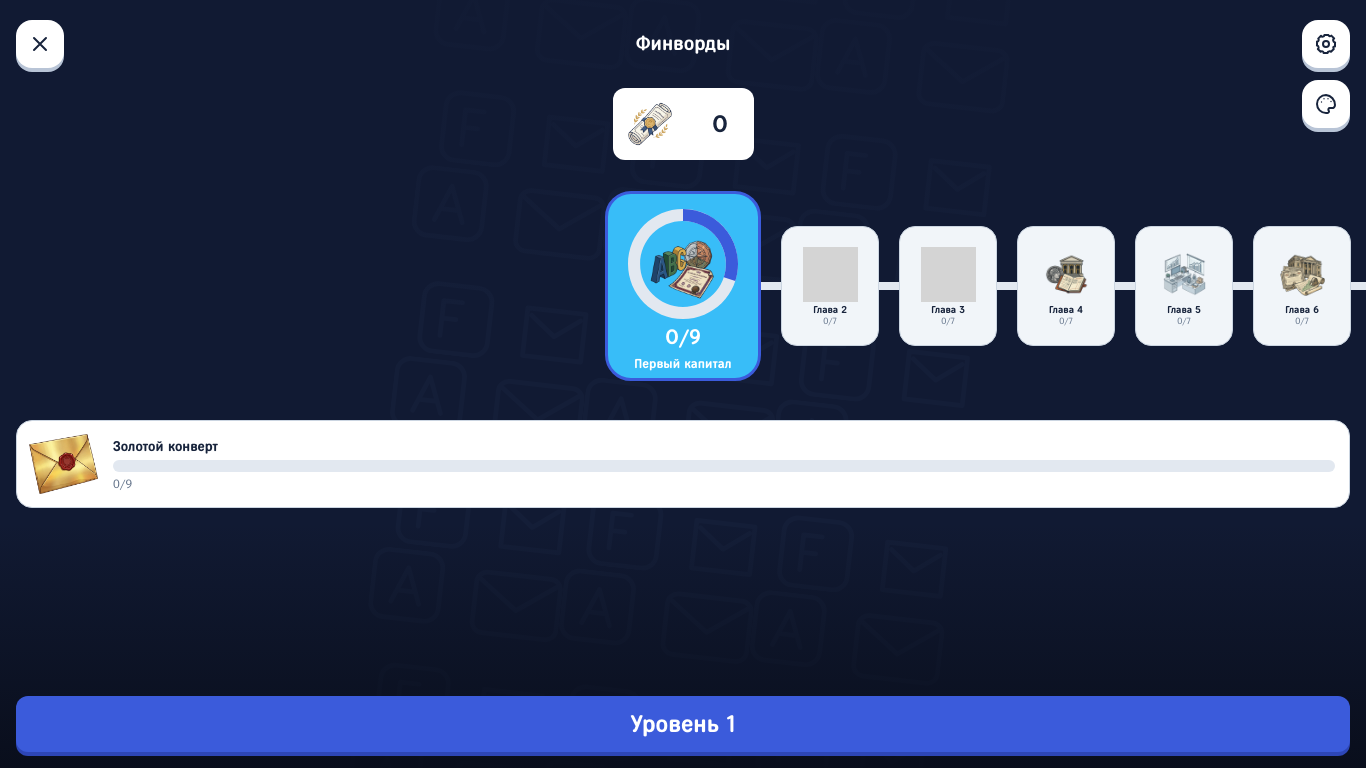
Test: P1 application shell › Settings modal is a modal surface with focus trap, Escape close, inert Home, and focus restore
Click the button named "Настройки".
click(1326, 44)  # box [1302,20,1350,68]
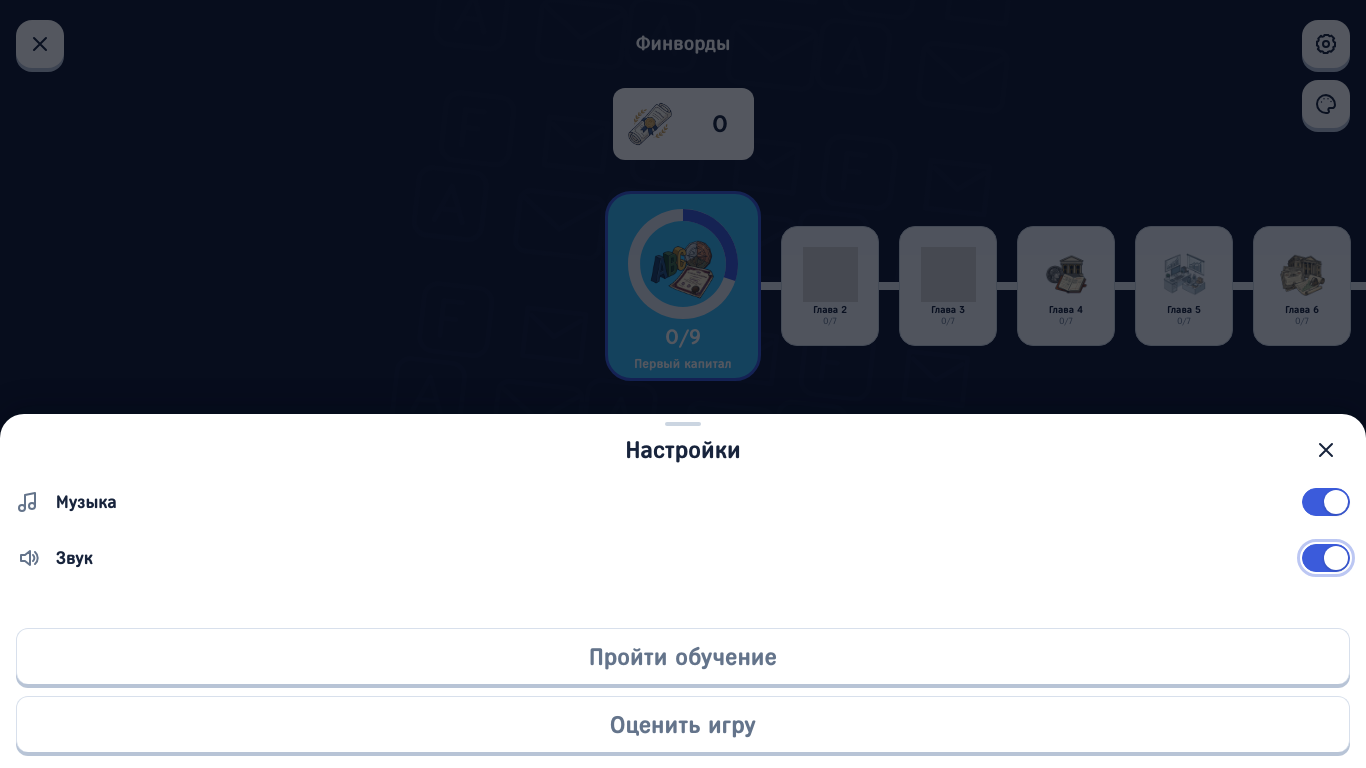
Expected: the element named "Главный экран" has attribute inert
Press Tab
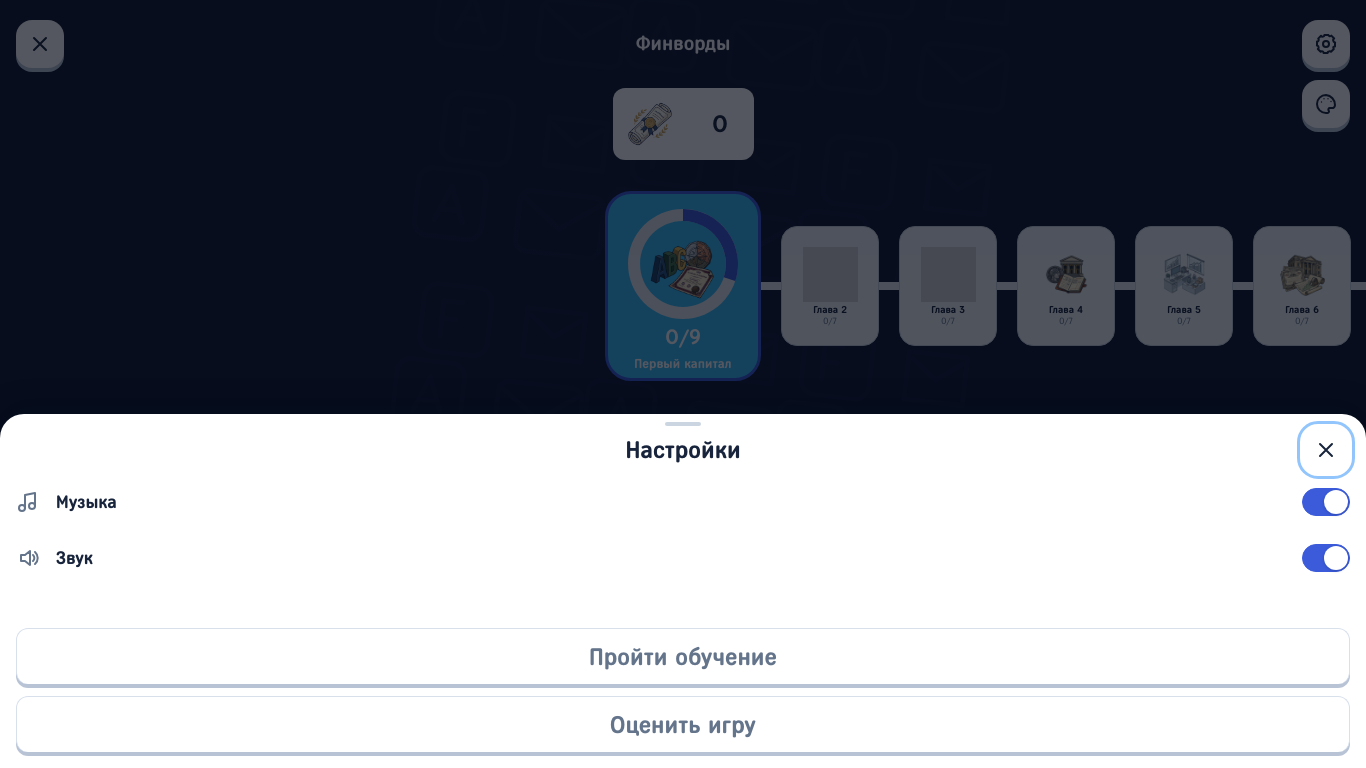
Press Shift+Tab
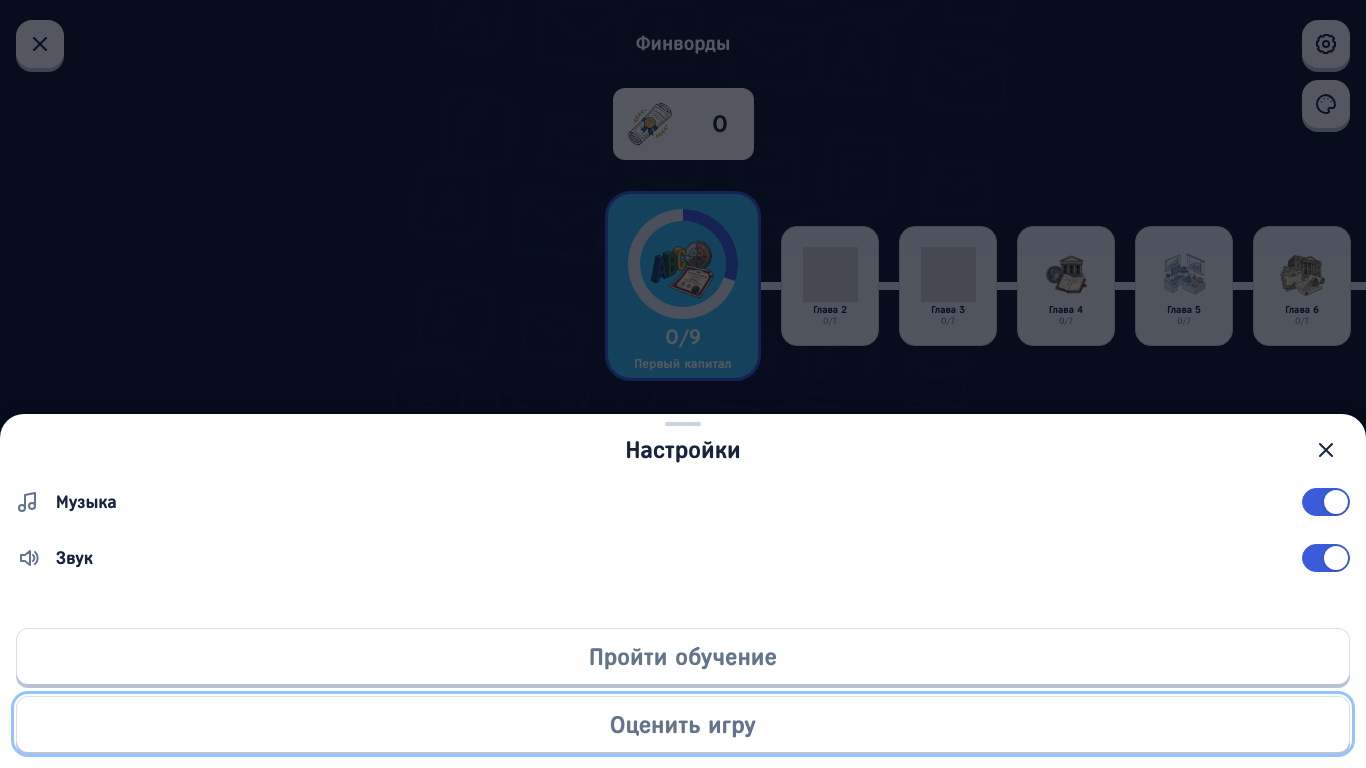
Press Escape
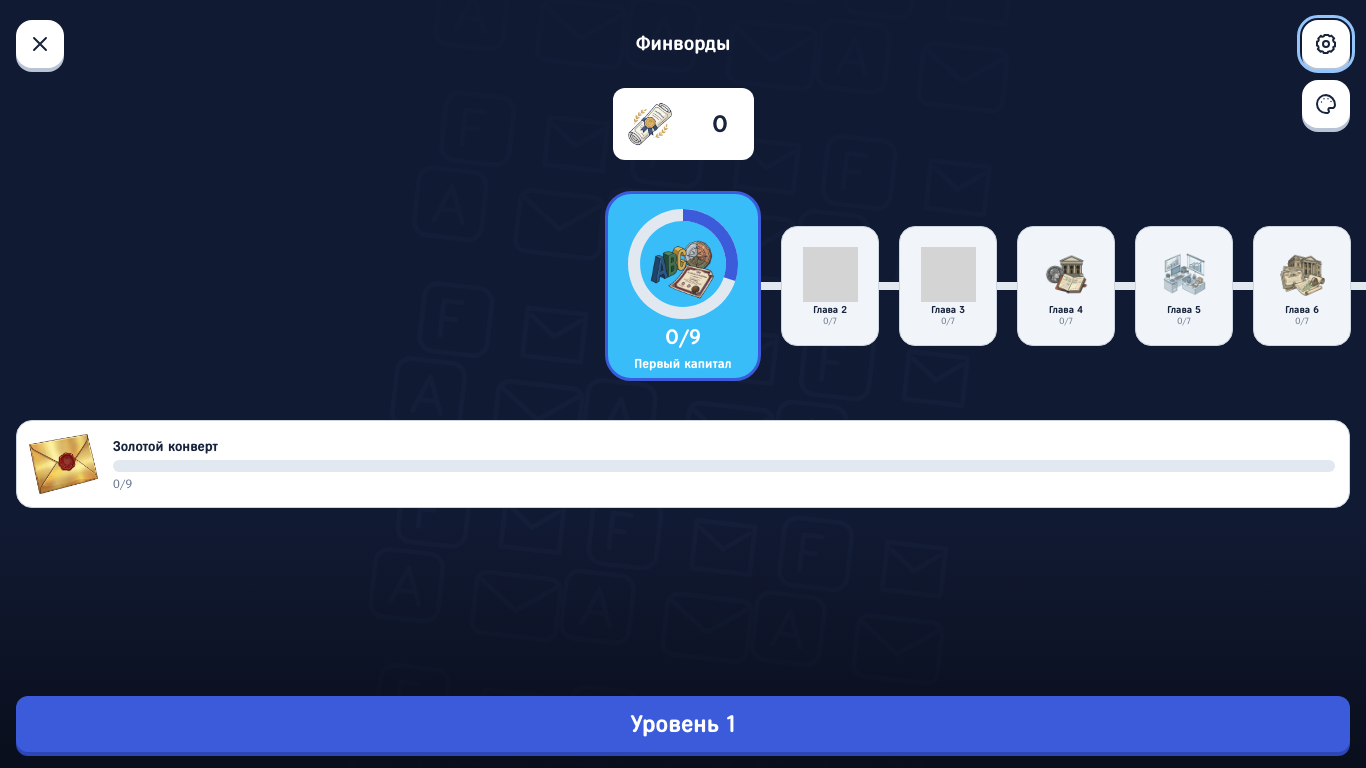
Expected: the heading "Настройки" is gone
